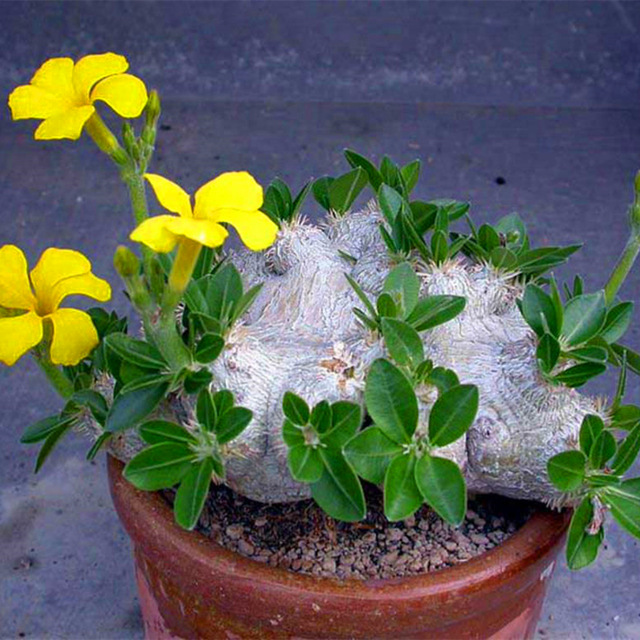Pachypodium brevicaule: (98, 142, 623, 577)
